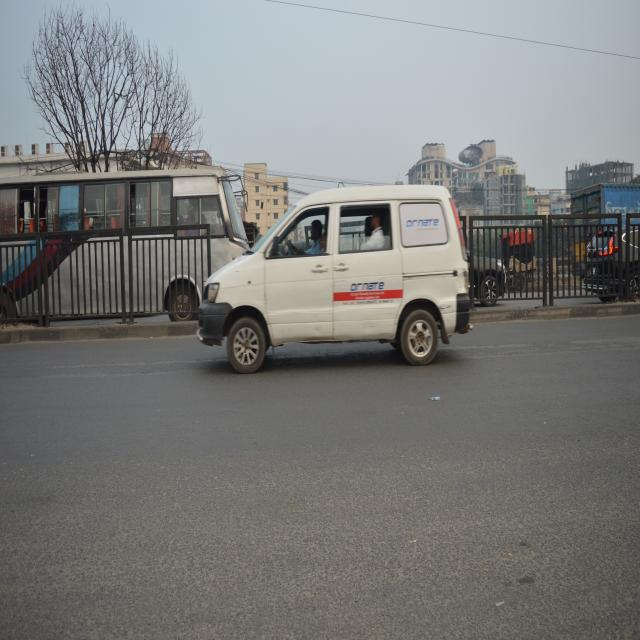bus: (0, 161, 245, 332)
car: (193, 181, 472, 371)
